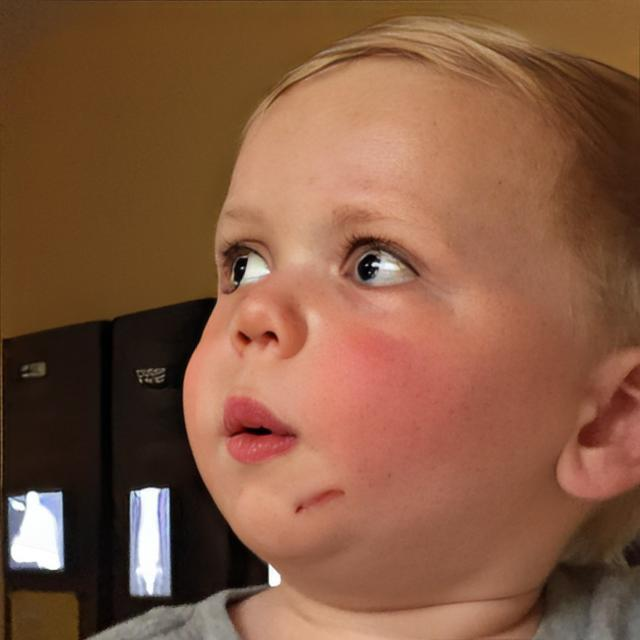fear: (182, 44, 589, 582)
